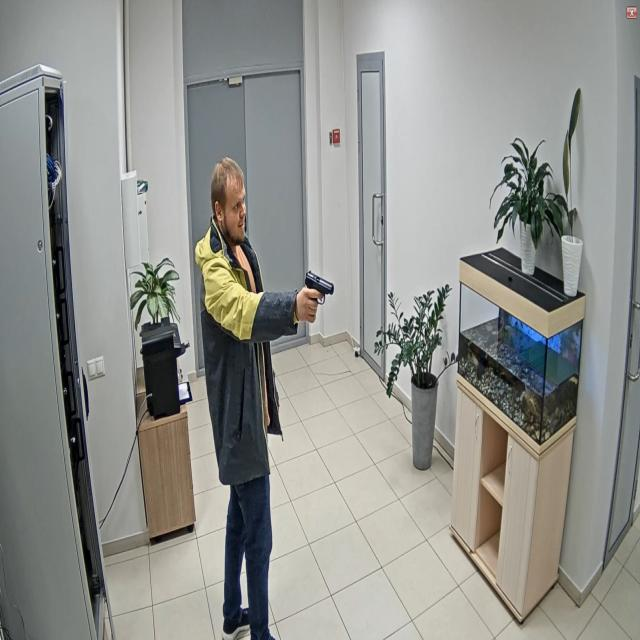-Gun: (305, 271, 334, 322)
